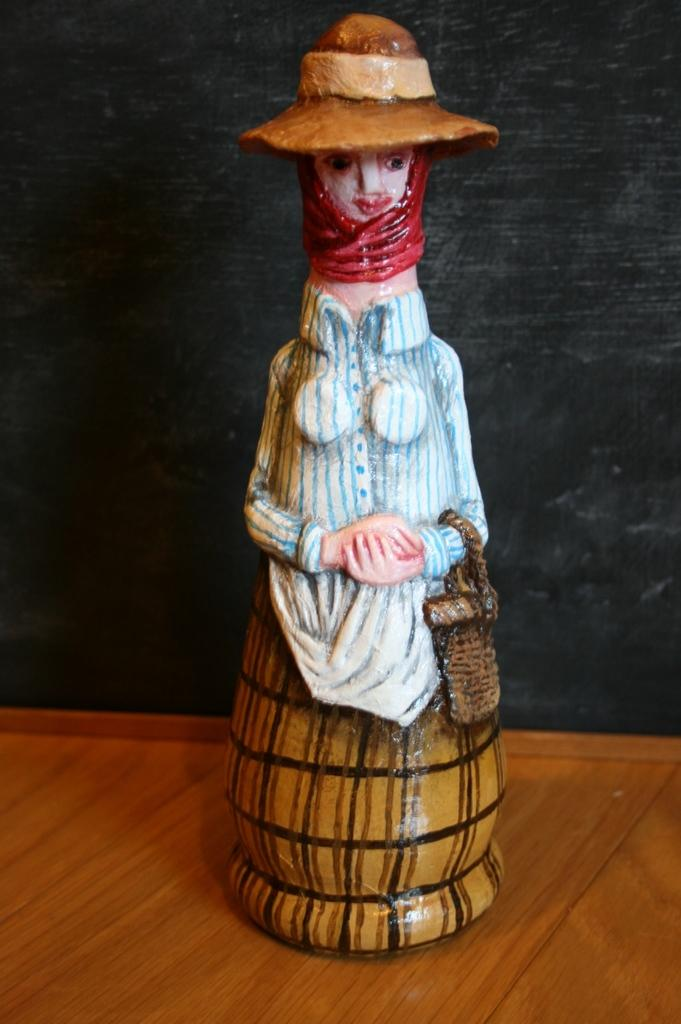Hat: (240, 10, 500, 169)
